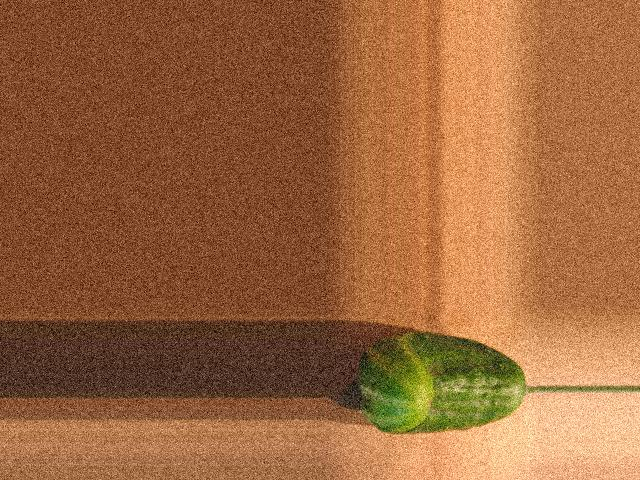cucumber: (359, 332, 526, 435)
